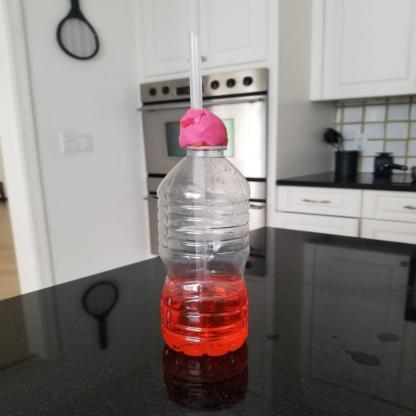bottle: (147, 99, 276, 362)
